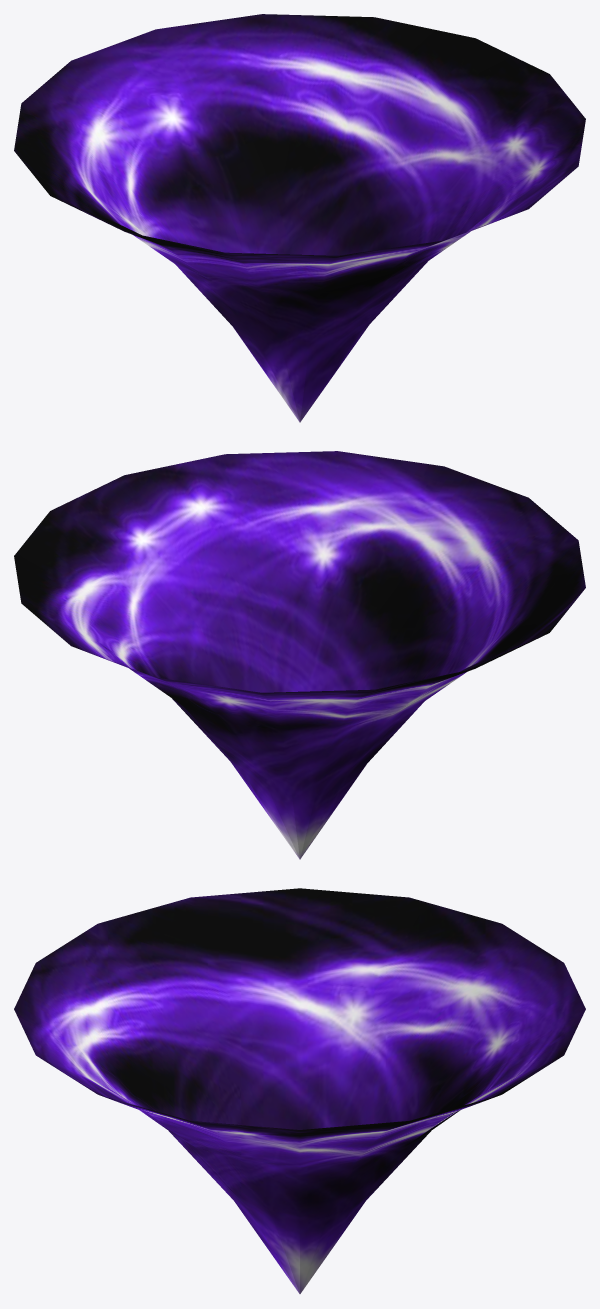
The model's file is icon_dark.FBX.
3 renders of one model, top to bottom at view 1: azimuth 30°, elevation 25°; view 2: azimuth 150°, elevation 25°; view 3: azimuth 270°, elevation 25°, orthographic.
Parts seen in each view (by area): view 1: Cone01; view 2: Cone01; view 3: Cone01.
Part boxes in pixels (<box>): Cone01: <box>14,14,585,422</box>; Cone01: <box>14,451,585,859</box>; Cone01: <box>14,888,585,1293</box>.
Size of the model in its own units: 52.4 by 28.86 by 52.4.
1 material, 1 textured.
